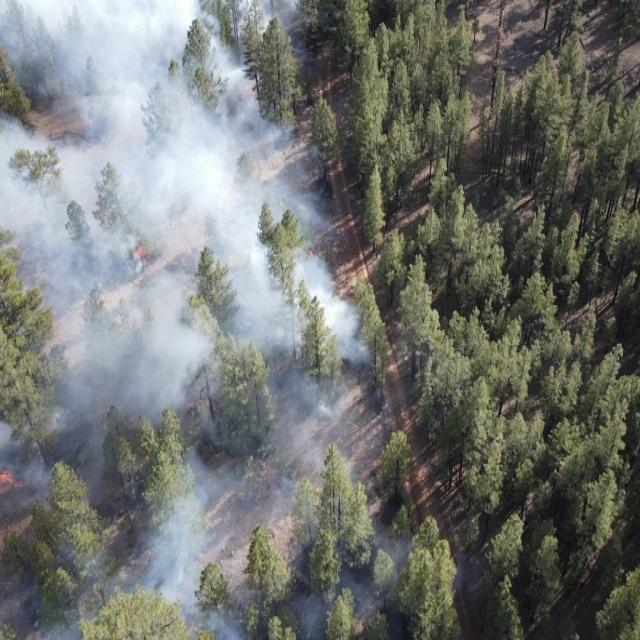fire: (0, 462, 29, 492), (129, 238, 150, 262), (306, 247, 316, 258)
smoke: (0, 0, 324, 640), (324, 262, 372, 640), (371, 530, 497, 640)
